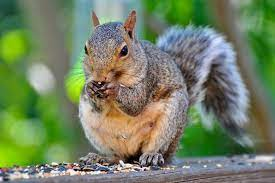squirrel: (79, 10, 245, 161)
